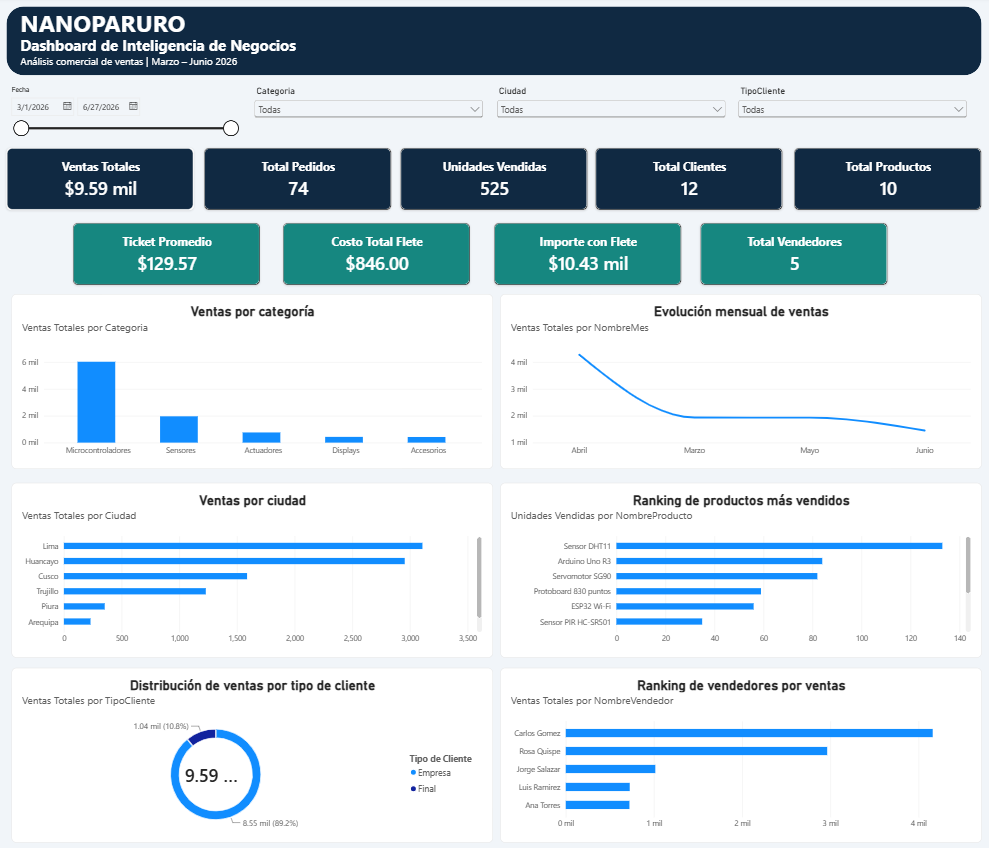

The dashboard page shown, as its layout file describes it:
{"tool":"powerbi","page":{"name":"Análisis Comercial","canvas":[1600,1400],"ordinal":0},"visuals":[{"type":"shape","box":[20,20,1560,110],"z":0},{"type":"textbox","title":"NANOPARURO","box":[41.2,20.6,1560,150],"z":1000},{"type":"textbox","title":"Dashboard de Inteligencia de Negocios","box":[41.2,65.2,1559.2,128.6],"z":2000},{"type":"textbox","title":"Análisis comercial de ventas | Marzo – Junio 2026","box":[41.2,96.1,1559,150],"z":3000},{"type":"slicer","fields":{"Values":["DIM_FECHA.Fecha"]},"box":[20,145,375,90],"z":4000},{"type":"slicer","fields":{"Values":["DIM_PRODUCTO.Categoria"]},"box":[411.7,145.8,375,90],"z":5000},{"type":"slicer","fields":{"Values":["DIM_GEOGRAFIA.Ciudad"]},"box":[799.3,145.8,375,90],"z":6000},{"type":"slicer","fields":{"Values":["DIM_CLIENTE.TipoCliente"]},"box":[1187,145.8,375,90],"z":7000},{"type":"cardVisual","fields":{"Data":["FACT_VENTAS.Ventas Totales"]},"box":[20.6,245.3,300,100],"z":8000},{"type":"cardVisual","fields":{"Data":["FACT_VENTAS.Total Pedidos"]},"box":[336.2,245.3,300,100],"z":9000},{"type":"cardVisual","fields":{"Data":["FACT_VENTAS.Unidades Vendidas"]},"box":[650.1,245.3,300,100],"z":10000},{"type":"cardVisual","fields":{"Data":["FACT_VENTAS.Total Clientes"]},"box":[962.3,245.3,300,100],"z":11000},{"type":"cardVisual","fields":{"Data":["FACT_VENTAS.Total Productos"]},"box":[1279.6,245.3,300,100],"z":12000},{"type":"cardVisual","fields":{"Data":["FACT_VENTAS.Ticket Promedio"]},"box":[125.2,365.4,300,100],"z":13000},{"type":"cardVisual","fields":{"Data":["FACT_VENTAS.Costo Total Flete"]},"box":[461.4,365.4,300,100],"z":14000},{"type":"cardVisual","fields":{"Data":["FACT_VENTAS.Importe con Flete"]},"box":[799.3,365.4,300,100],"z":15000},{"type":"cardVisual","fields":{"Data":["FACT_VENTAS.Total Vendedores"]},"box":[1130.4,365.4,300,100],"z":16000},{"type":"clusteredColumnChart","title":"Ventas por categoría","fields":{"Category":["DIM_PRODUCTO.Categoria"],"Y":["FACT_VENTAS.Ventas Totales"]},"box":[28.3,480.9,770,280],"z":17000},{"type":"lineChart","title":"Evolución mensual de ventas","fields":{"Category":["DIM_FECHA.NombreMes"],"Y":["FACT_VENTAS.Ventas Totales"]},"box":[810.3,480.9,770,280],"z":18000},{"type":"clusteredBarChart","title":"Ventas por ciudad","fields":{"Category":["DIM_GEOGRAFIA.Ciudad"],"Y":["FACT_VENTAS.Ventas Totales"]},"box":[28,782,770,280],"z":19000},{"type":"clusteredBarChart","title":"\tRanking de productos más vendidos","fields":{"Category":["DIM_PRODUCTO.NombreProducto"],"Y":["FACT_VENTAS.Unidades Vendidas"]},"box":[810,782,770,280],"z":20000},{"type":"donutChart","title":"\tDistribución de ventas por tipo de cliente","fields":{"Category":["DIM_CLIENTE.TipoCliente"],"Y":["FACT_VENTAS.Ventas Totales"]},"box":[28,1078,770,280],"z":21000},{"type":"clusteredBarChart","title":"Ranking de vendedores por ventas","fields":{"Category":["DIM_VENDEDOR.NombreVendedor"],"Y":["FACT_VENTAS.Ventas Totales"]},"box":[810,1078,770,280],"z":21001}]}

Visuals, with their boxes in screenshot pixels (x1, y1, x2, y2), scaled from the page's 1600x1400 canvas onto the 989x848 screenshot:
shape: {"x1": 12, "y1": 12, "x2": 977, "y2": 79}
"NANOPARURO" textbox: {"x1": 25, "y1": 12, "x2": 988, "y2": 103}
"Dashboard de Inteligencia de Negocios" textbox: {"x1": 25, "y1": 39, "x2": 988, "y2": 117}
"Análisis comercial de ventas | Marzo – Junio 2026" textbox: {"x1": 25, "y1": 58, "x2": 988, "y2": 149}
slicer - DIM_FECHA.Fecha: {"x1": 12, "y1": 88, "x2": 244, "y2": 142}
slicer - DIM_PRODUCTO.Categoria: {"x1": 254, "y1": 88, "x2": 486, "y2": 143}
slicer - DIM_GEOGRAFIA.Ciudad: {"x1": 494, "y1": 88, "x2": 726, "y2": 143}
slicer - DIM_CLIENTE.TipoCliente: {"x1": 734, "y1": 88, "x2": 966, "y2": 143}
cardVisual - FACT_VENTAS.Ventas Totales: {"x1": 13, "y1": 149, "x2": 198, "y2": 209}
cardVisual - FACT_VENTAS.Total Pedidos: {"x1": 208, "y1": 149, "x2": 393, "y2": 209}
cardVisual - FACT_VENTAS.Unidades Vendidas: {"x1": 402, "y1": 149, "x2": 587, "y2": 209}
cardVisual - FACT_VENTAS.Total Clientes: {"x1": 595, "y1": 149, "x2": 780, "y2": 209}
cardVisual - FACT_VENTAS.Total Productos: {"x1": 791, "y1": 149, "x2": 976, "y2": 209}
cardVisual - FACT_VENTAS.Ticket Promedio: {"x1": 77, "y1": 221, "x2": 263, "y2": 282}
cardVisual - FACT_VENTAS.Costo Total Flete: {"x1": 285, "y1": 221, "x2": 471, "y2": 282}
cardVisual - FACT_VENTAS.Importe con Flete: {"x1": 494, "y1": 221, "x2": 680, "y2": 282}
cardVisual - FACT_VENTAS.Total Vendedores: {"x1": 699, "y1": 221, "x2": 884, "y2": 282}
"Ventas por categoría" clusteredColumnChart: {"x1": 17, "y1": 291, "x2": 493, "y2": 461}
"Evolución mensual de ventas" lineChart: {"x1": 501, "y1": 291, "x2": 977, "y2": 461}
"Ventas por ciudad" clusteredBarChart: {"x1": 17, "y1": 474, "x2": 493, "y2": 643}
"	Ranking de productos más vendidos" clusteredBarChart: {"x1": 501, "y1": 474, "x2": 977, "y2": 643}
"	Distribución de ventas por tipo de cliente" donutChart: {"x1": 17, "y1": 653, "x2": 493, "y2": 823}
"Ranking de vendedores por ventas" clusteredBarChart: {"x1": 501, "y1": 653, "x2": 977, "y2": 823}
